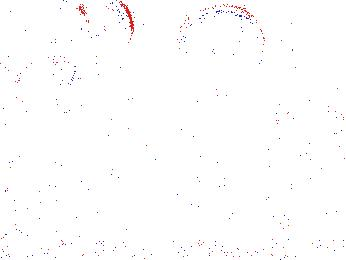moon jellyfish: (256, 105, 346, 192), (177, 5, 266, 83), (82, 1, 134, 76), (14, 6, 81, 59), (15, 55, 76, 106)
